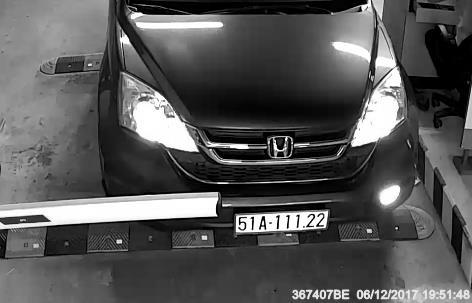License-plate: (229, 206, 337, 238)
